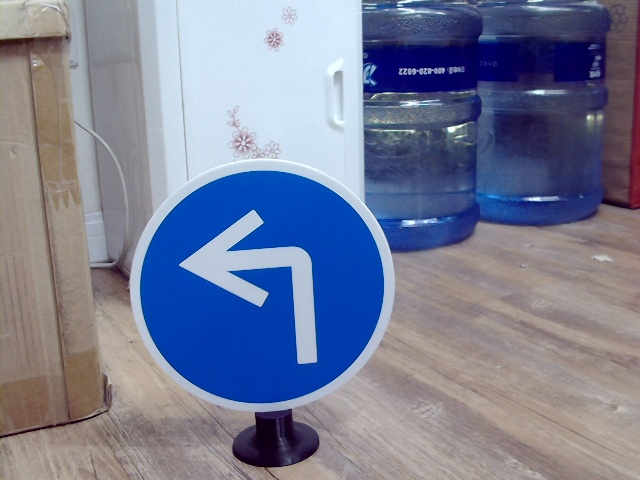turn_left: (179, 208, 336, 362)
